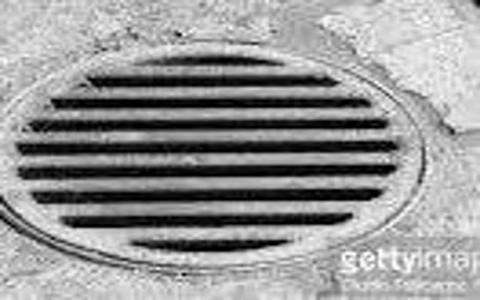proper manhole: (1, 25, 443, 285)
